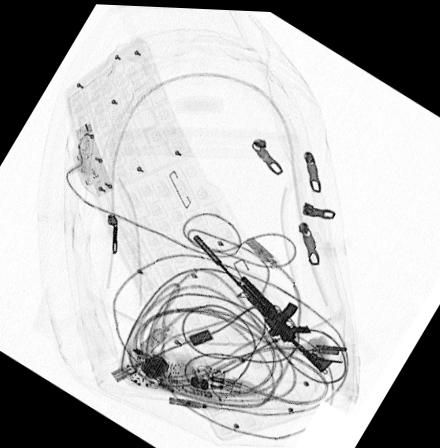Gun: (191, 232, 334, 370)
